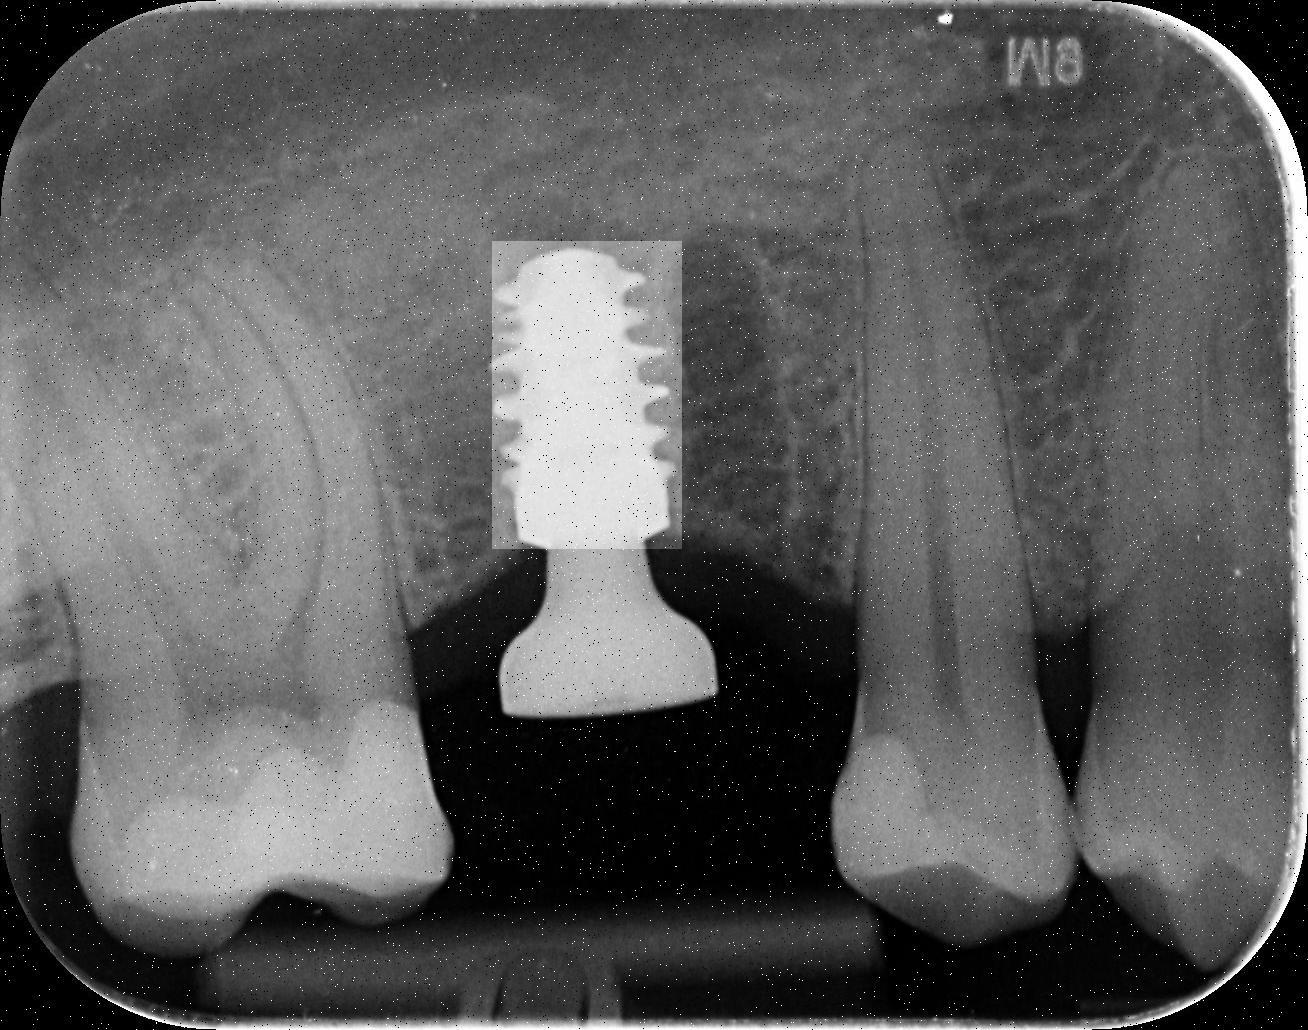Straumann: (492, 241, 682, 549)
